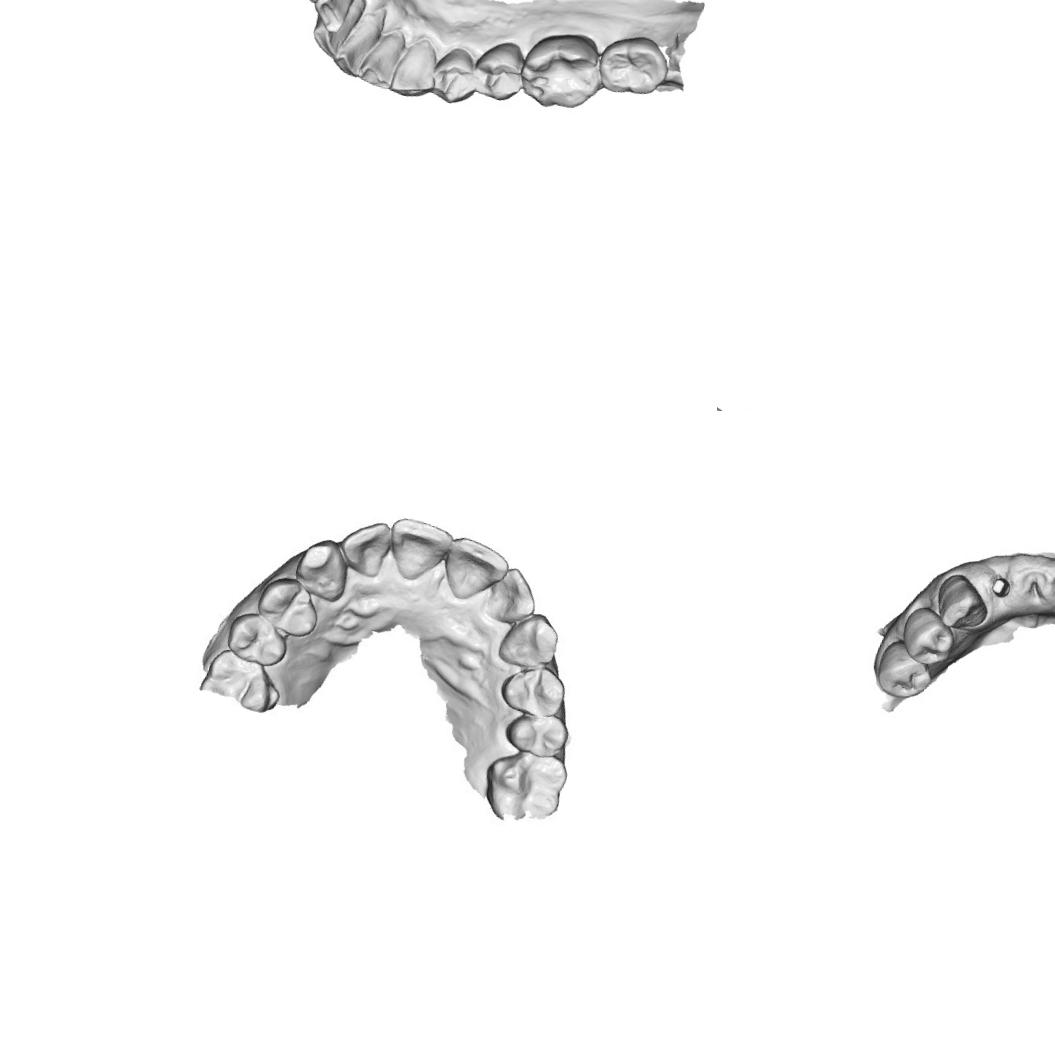abutment: (988, 574, 1015, 600)
canine: (494, 604, 568, 676), (287, 531, 356, 605), (930, 570, 998, 637), (387, 38, 442, 104)
incisor: (436, 532, 514, 610), (379, 512, 457, 589), (331, 510, 396, 580), (482, 562, 544, 631), (330, 11, 384, 81), (355, 32, 401, 92), (306, 15, 351, 62), (309, 0, 361, 36)
molar: (512, 21, 610, 120), (475, 742, 572, 830), (592, 26, 676, 104), (194, 645, 285, 716)
premolar: (250, 569, 328, 642), (494, 657, 571, 722), (467, 33, 533, 106), (221, 606, 294, 672), (872, 635, 939, 704), (895, 602, 961, 670), (426, 42, 488, 111), (499, 706, 573, 762)
